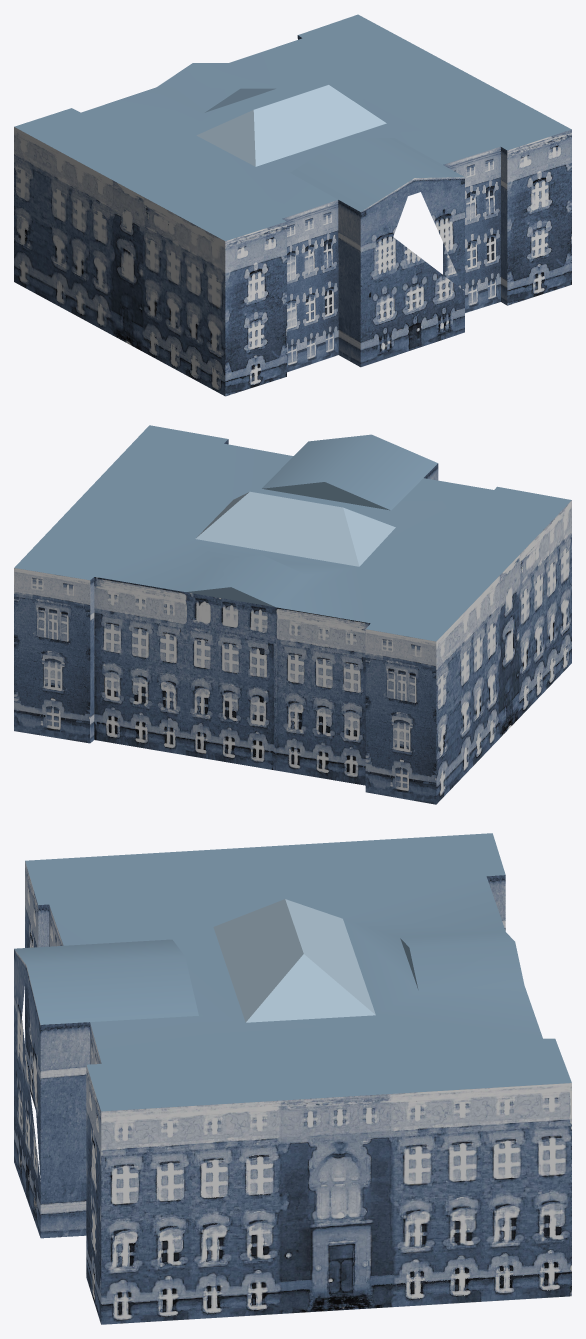
The model's file is Goerges-Bau.gltf.
The picture shows the model from 3 angles, top to bottom: view 1: azimuth 30°, elevation 25°; view 2: azimuth 150°, elevation 25°; view 3: azimuth 270°, elevation 25°; orthographic projection. The views are drawn at different scales.
Parts seen in each view (by area): view 1: Dach.1; view 2: Dach.1; view 3: Dach.1.
Boxes of the visible parts, x1,y1,x2,y2 form: Dach.1: (14, 14, 571, 396); Dach.1: (14, 425, 571, 804); Dach.1: (14, 833, 571, 1324).
Size of the model in its own units: 53.21 by 22.95 by 45.04.
11 materials, 9 textured.
